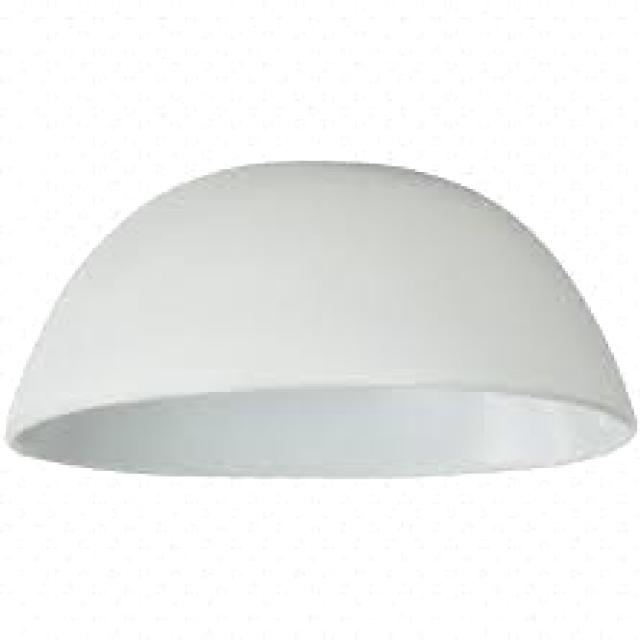Mangkok: (0, 149, 640, 551)
